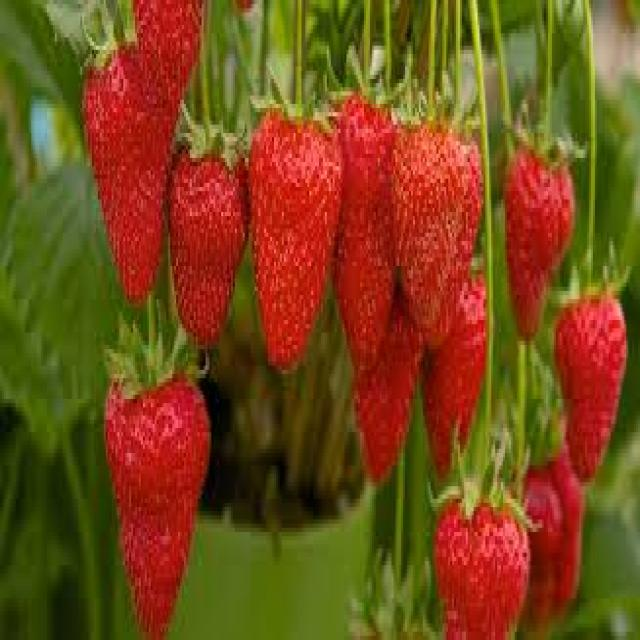strawberry: (95, 330, 209, 640), (73, 13, 180, 322), (238, 81, 336, 370), (391, 111, 483, 347), (168, 132, 249, 350), (553, 272, 628, 485), (503, 136, 577, 340)
